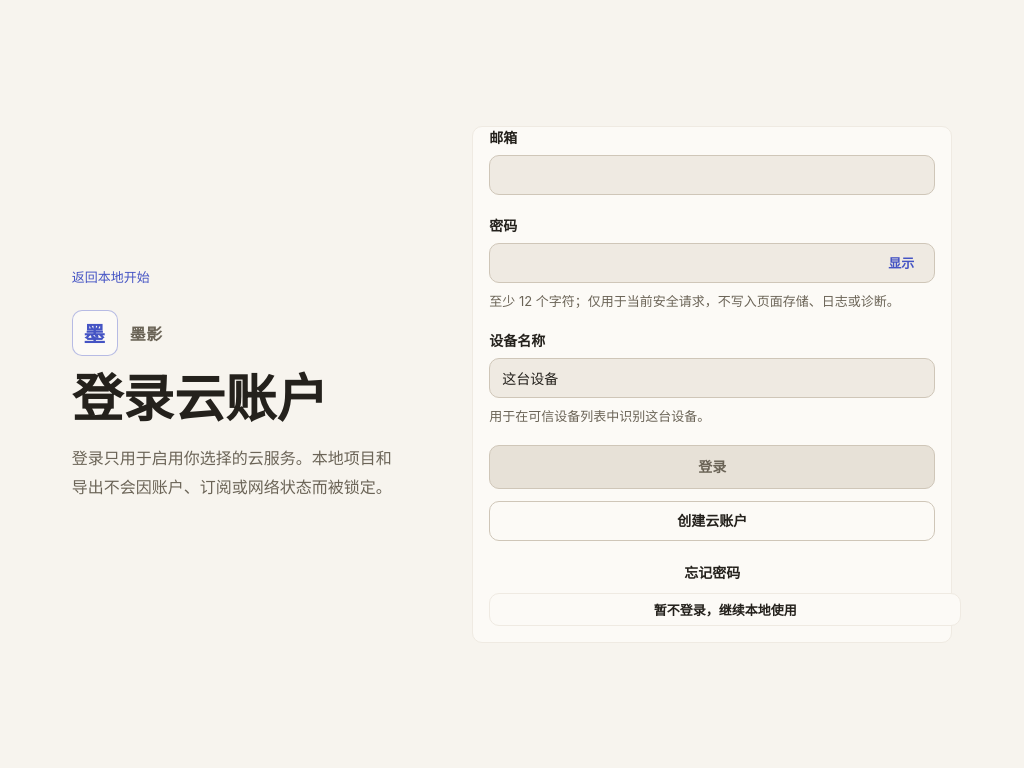
Test: cloud login route › completes the non-enumerating password-reset flow and returns to login
The width and height of the screenshot is (1024, 768).
Expected: the heading "登录云账户" is shown, x1=72 y1=372 x2=328 y2=428
Click the button "忘记密码" at [712, 572], box x1=489 y1=552 x2=935 y2=592
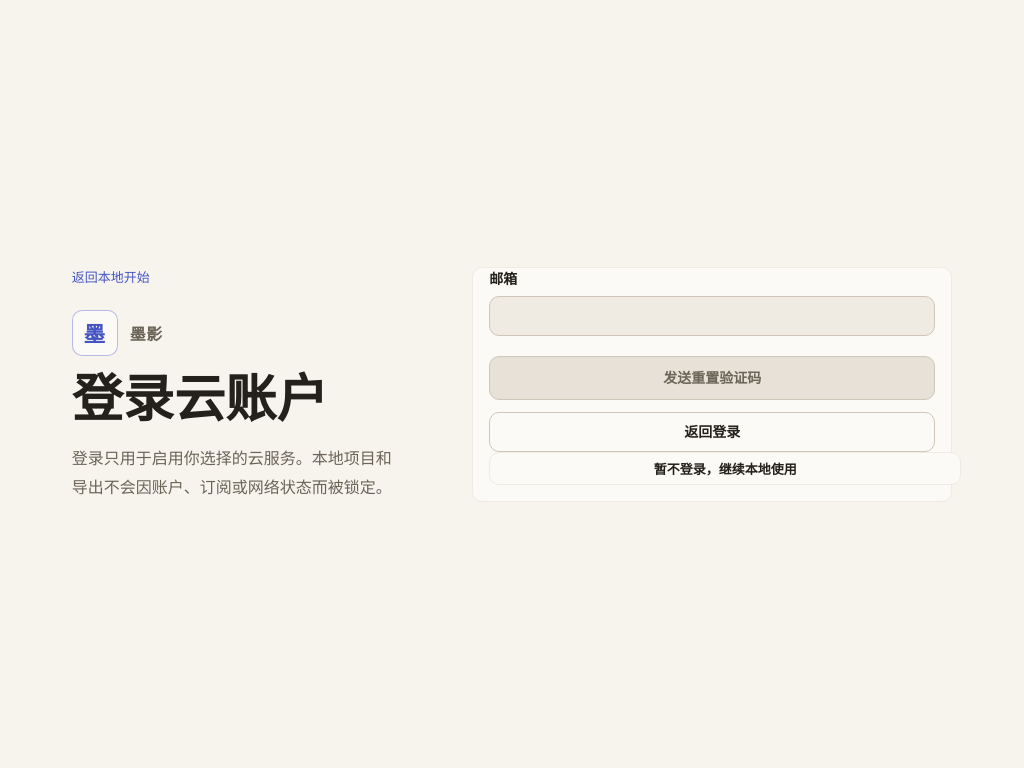
Type "writer@example.test" into the field labelled "邮箱" at [712, 316], box x1=502 y1=296 x2=922 y2=334
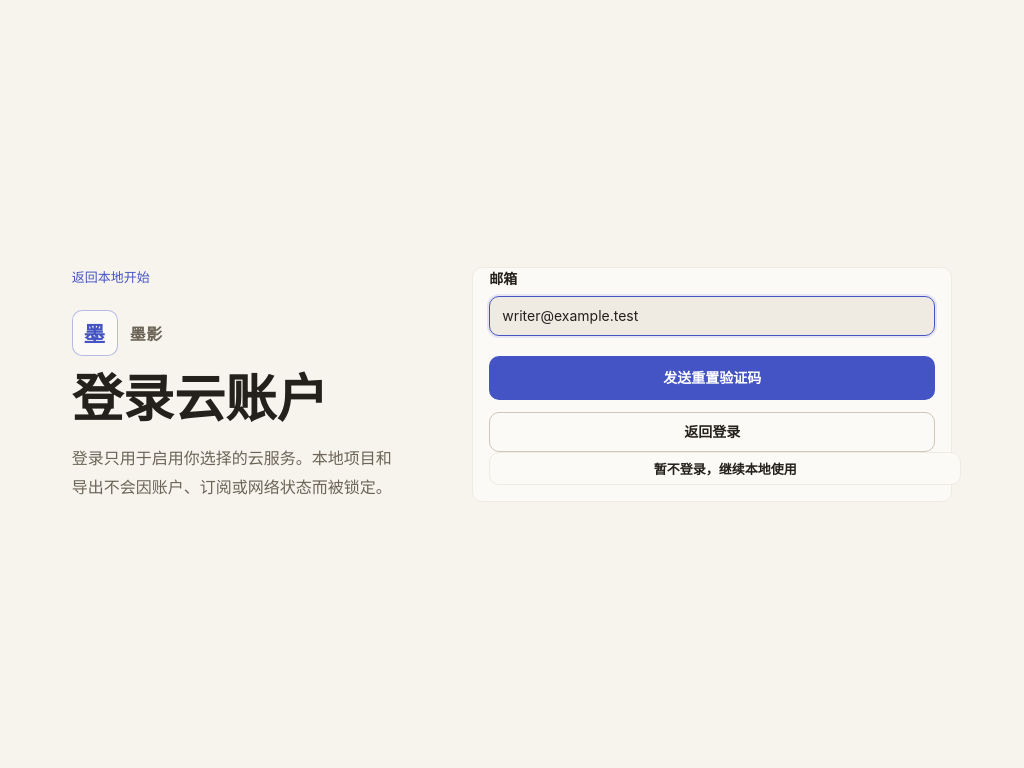
Click the button "发送重置验证码" at [712, 378], box x1=489 y1=356 x2=935 y2=400
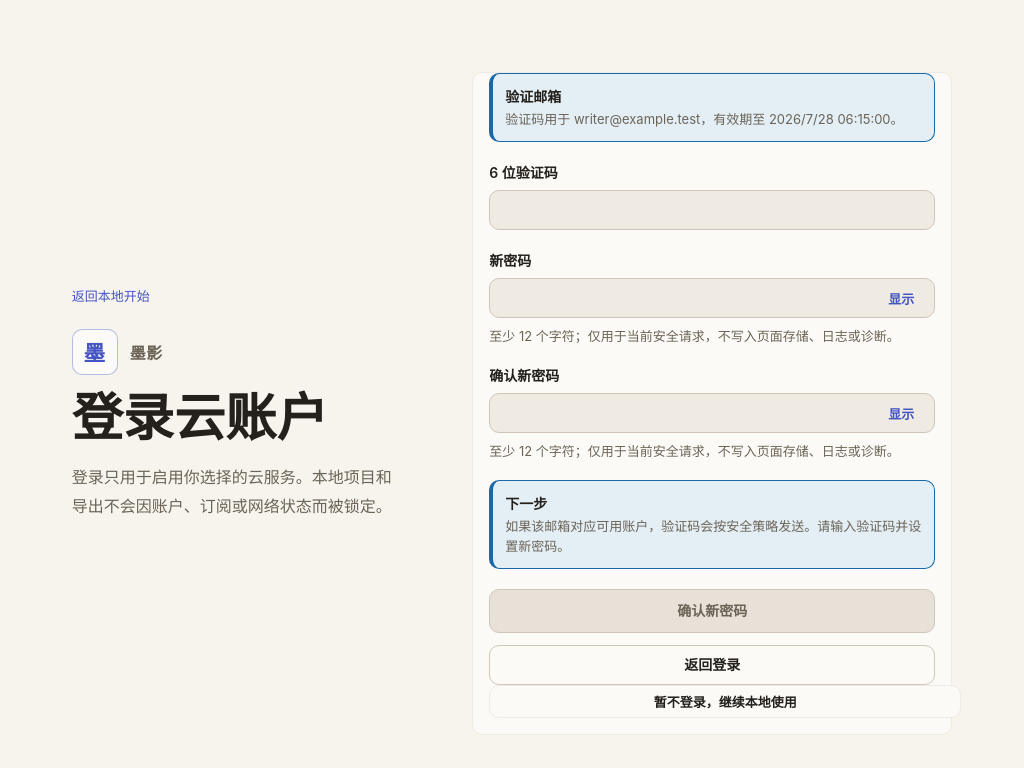
Expected: the text "如果该邮箱对应可用账户，验证码会按安全策略发送。请输入验证码并设置新密码。" is shown, x1=505 y1=517 x2=922 y2=556
Type "654321" into the field labelled "6 位验证码" at [712, 210], box x1=502 y1=191 x2=922 y2=229
Type "replacement-password" into the password field labelled "新密码" at [687, 298], box x1=502 y1=279 x2=872 y2=317
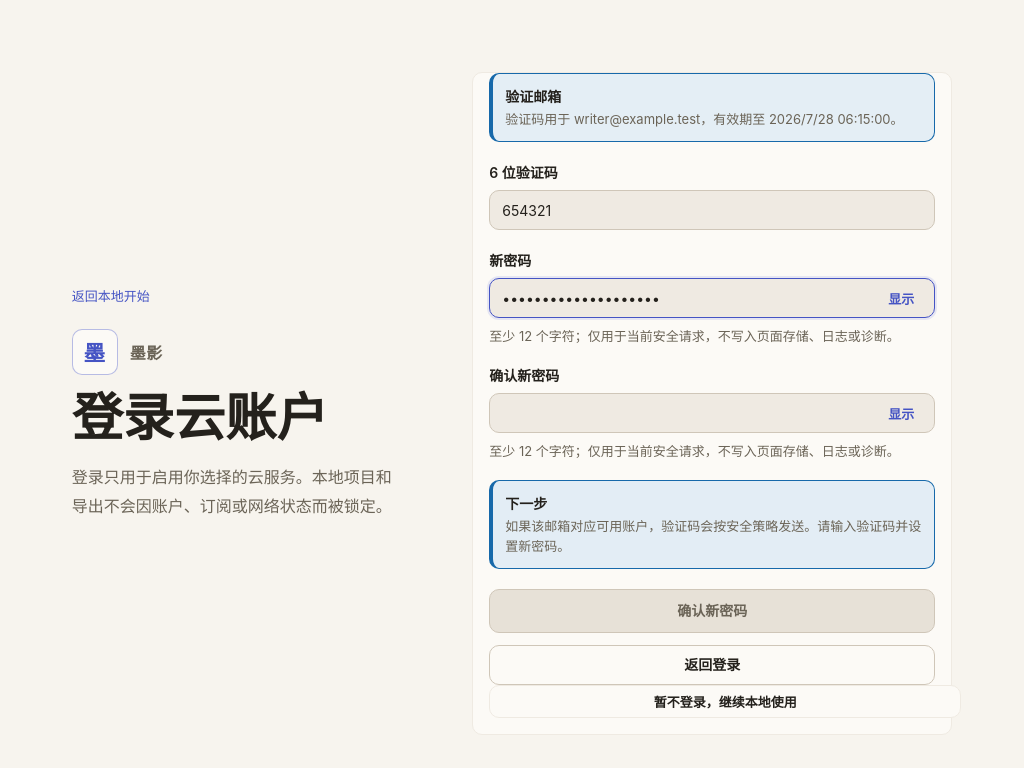
Type "replacement-password" into the password field labelled "确认新密码" at [687, 413], box x1=502 y1=394 x2=872 y2=432
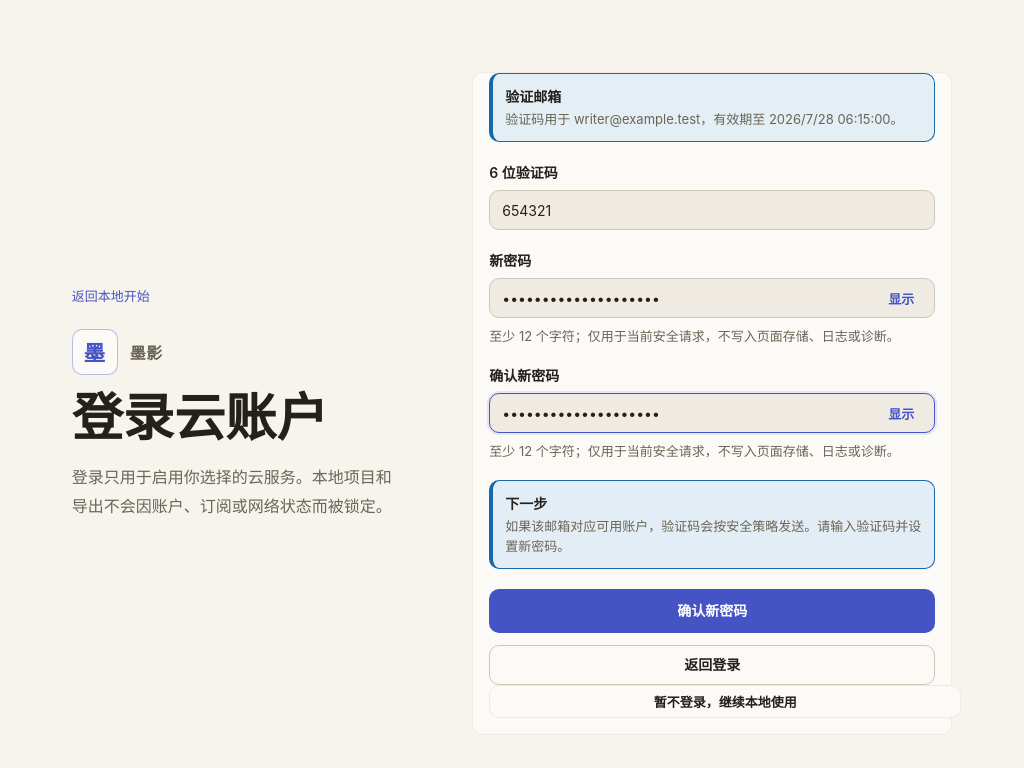
Click the button "确认新密码" at [712, 611], box x1=489 y1=589 x2=935 y2=633
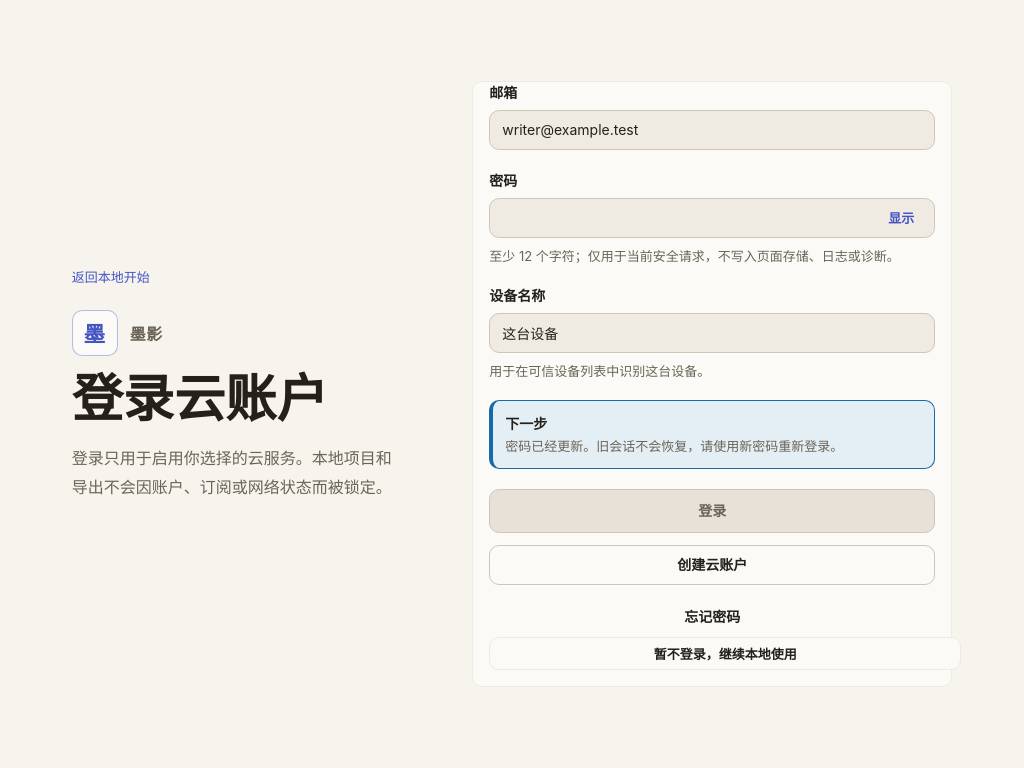
Expected: the text "密码已经更新。旧会话不会恢复，请使用新密码重新登录。" is shown, x1=505 y1=438 x2=843 y2=454
Expected: the form named "云账户登录" is shown, x1=489 y1=82 x2=935 y2=637
Expected: the password field labelled "密码" is empty, x1=502 y1=199 x2=872 y2=237
